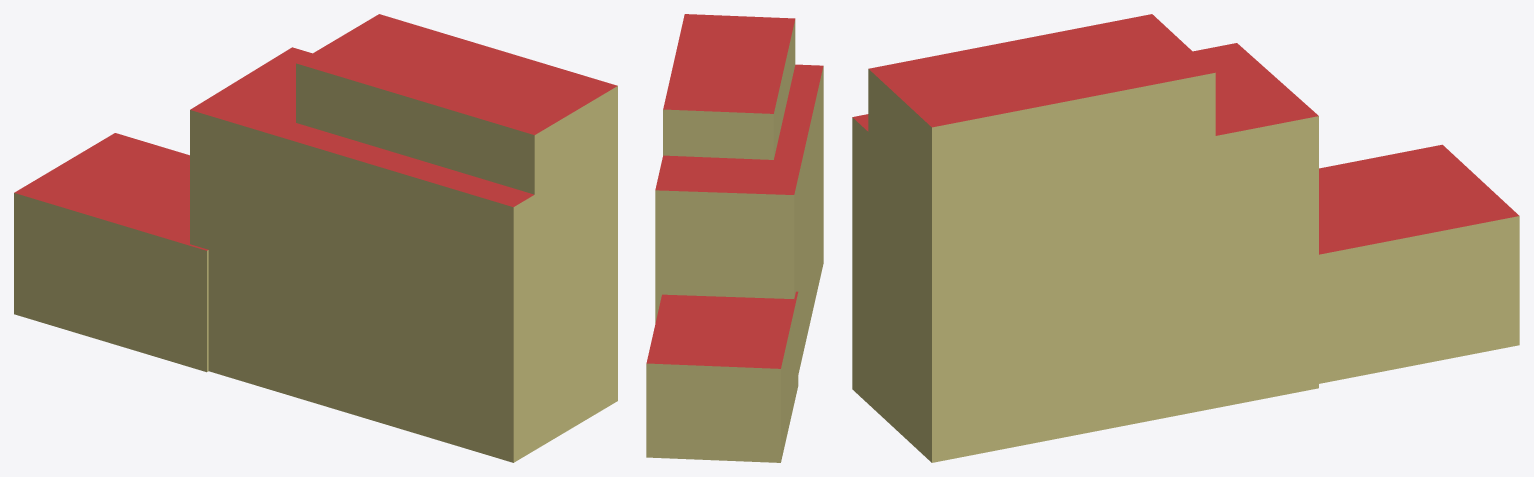
3 renders of one model, left to right at view 1: azimuth 30°, elevation 25°; view 2: azimuth 150°, elevation 25°; view 3: azimuth 270°, elevation 25°, orthographic. The views are drawn at different scales.
Visible parts, largest first — view 1: group_6, group_9, group_5, group_4, group_8, group_3; view 2: group_6, group_9, group_4, group_8, group_3, group_5; view 3: group_6, group_9, group_5, group_4, group_8, group_3.
Part boxes in pixels (<box>): group_6: <box>190,110,617,462</box>; group_9: <box>14,193,208,372</box>; group_5: <box>296,63,617,194</box>; group_4: <box>296,14,617,135</box>; group_8: <box>14,133,208,250</box>; group_3: <box>190,47,533,206</box>; group_6: <box>655,66,823,373</box>; group_9: <box>646,293,798,462</box>; group_4: <box>663,14,795,113</box>; group_8: <box>646,291,798,368</box>; group_3: <box>655,64,823,194</box>; group_5: <box>663,20,795,159</box>; group_6: <box>852,116,1318,462</box>; group_9: <box>1319,216,1519,383</box>; group_5: <box>868,69,1215,190</box>; group_4: <box>869,14,1214,127</box>; group_8: <box>1319,144,1519,254</box>; group_3: <box>852,43,1318,135</box>.
Size of the model in its own units: 18.45 by 27.52 by 15.27.
